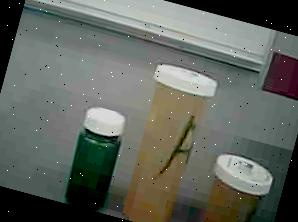Bottle A: (111, 51, 227, 222)
Bottle B: (192, 145, 276, 222)
